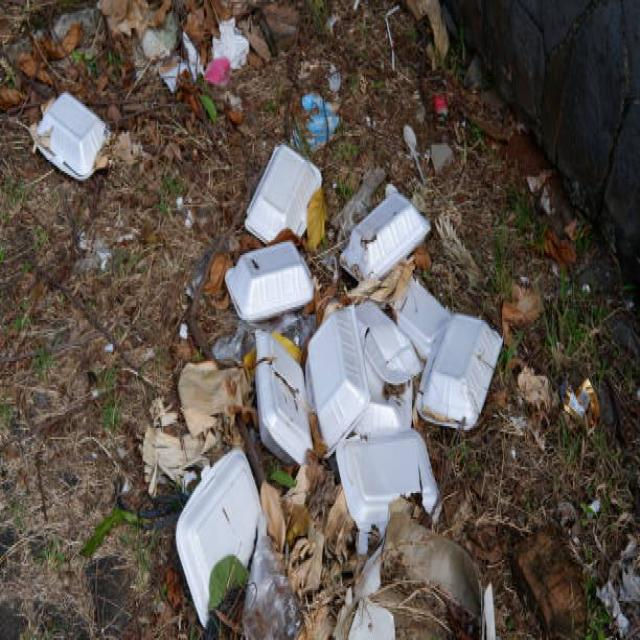plastic: (230, 136, 514, 541)
